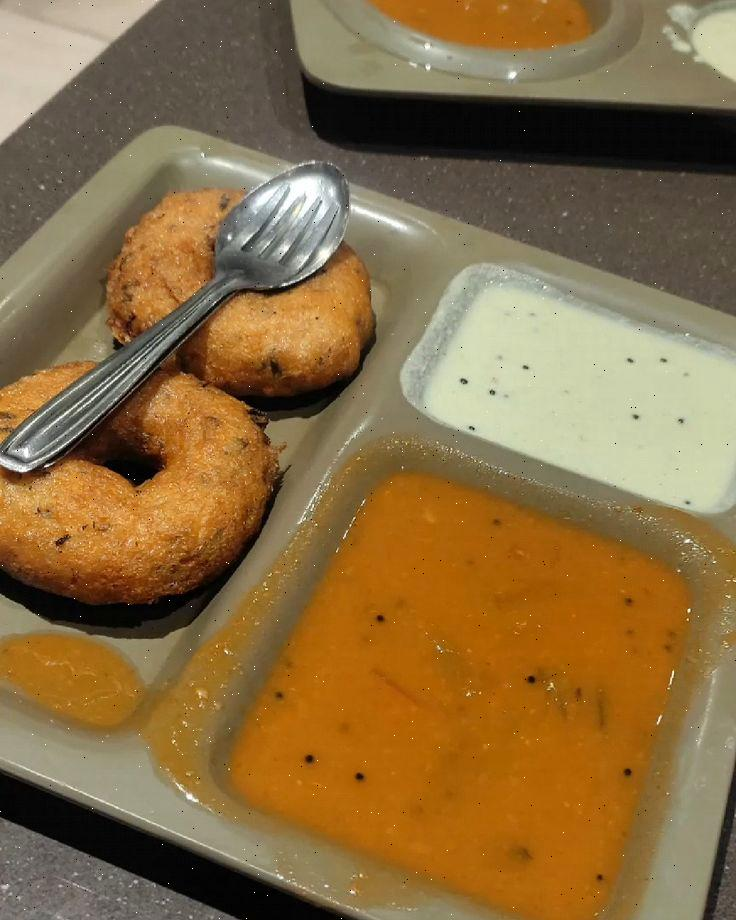coconut chutney: (450, 292, 736, 500)
medu vada: (7, 372, 272, 594)
sambhar: (259, 472, 688, 907)
